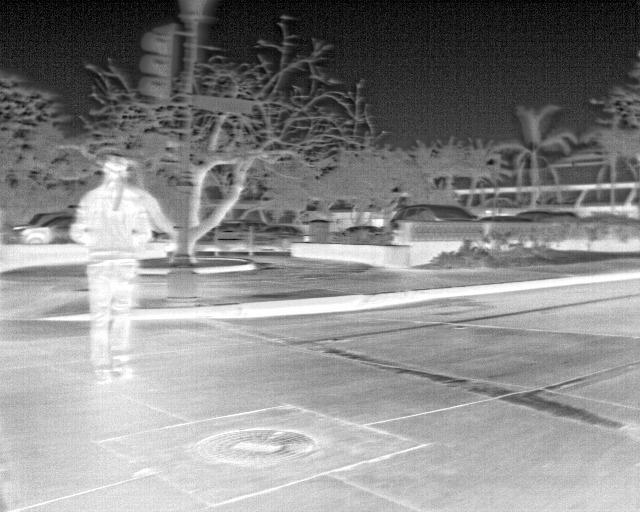bicycle: (388, 205, 481, 235), (19, 220, 75, 246), (258, 225, 308, 253), (11, 211, 67, 230), (337, 226, 382, 243)
empty: (70, 158, 154, 382)
